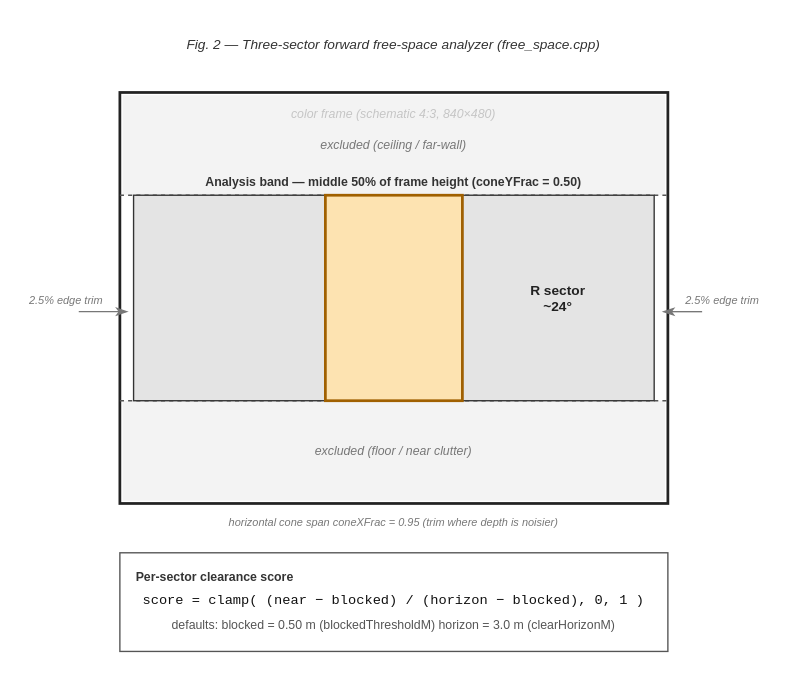
The diagram is 786 pixels wide and 675 high, and some of its shapes have lost their labels. Here are the shapes that lost their labels. From the top down, the centre of each, then its label:
At point (228, 297): "L sector ~24°".
At point (393, 297): "C beam ~17°".
